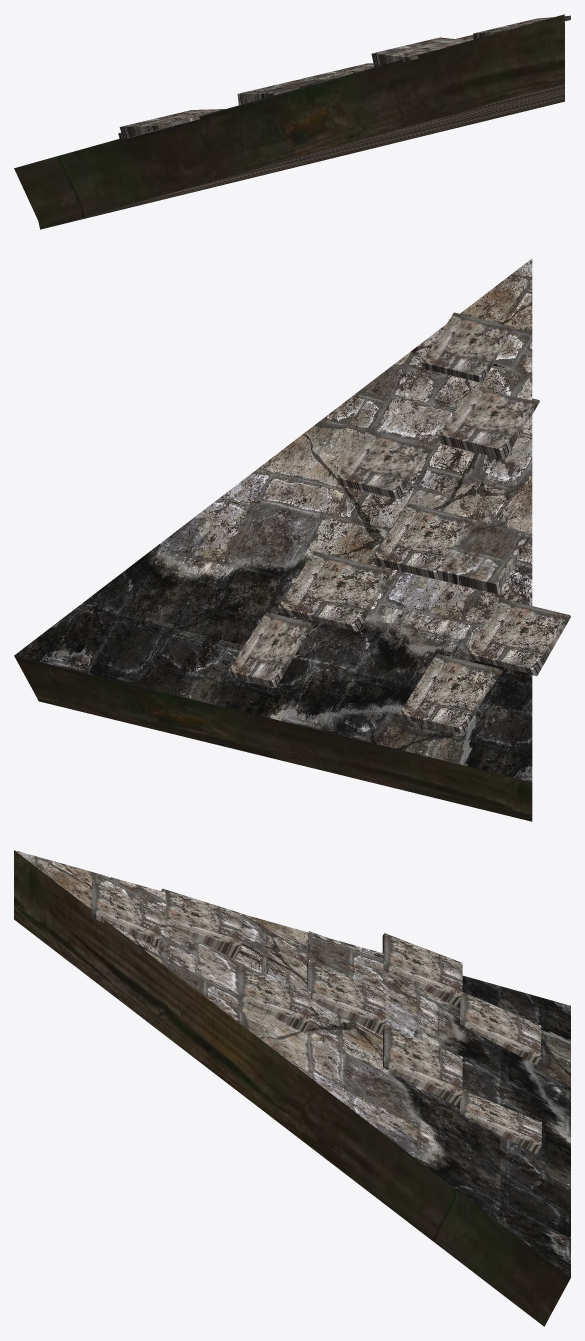
The picture shows the model from 3 angles, top to bottom: view 1: azimuth 30°, elevation 25°; view 2: azimuth 150°, elevation 25°; view 3: azimuth 270°, elevation 25°; orthographic projection. The views are drawn at different scales.
Parts seen in each view (by area): view 1: SM_BB_T3_Roof_Triangle_Shallow_Large_Inverted_LOD0; view 2: SM_BB_T3_Roof_Triangle_Shallow_Large_Inverted_LOD0; view 3: SM_BB_T3_Roof_Triangle_Shallow_Large_Inverted_LOD0.
Boxes of the visible parts, x1,y1,x2,y2 form: SM_BB_T3_Roof_Triangle_Shallow_Large_Inverted_LOD0: (14, 14, 570, 229); SM_BB_T3_Roof_Triangle_Shallow_Large_Inverted_LOD0: (14, 258, 570, 821); SM_BB_T3_Roof_Triangle_Shallow_Large_Inverted_LOD0: (14, 850, 570, 1326).
Bounding box in the file's own units: 3.15 × 1.87 × 2.73.
Materials: 3 (3 with a texture image).
